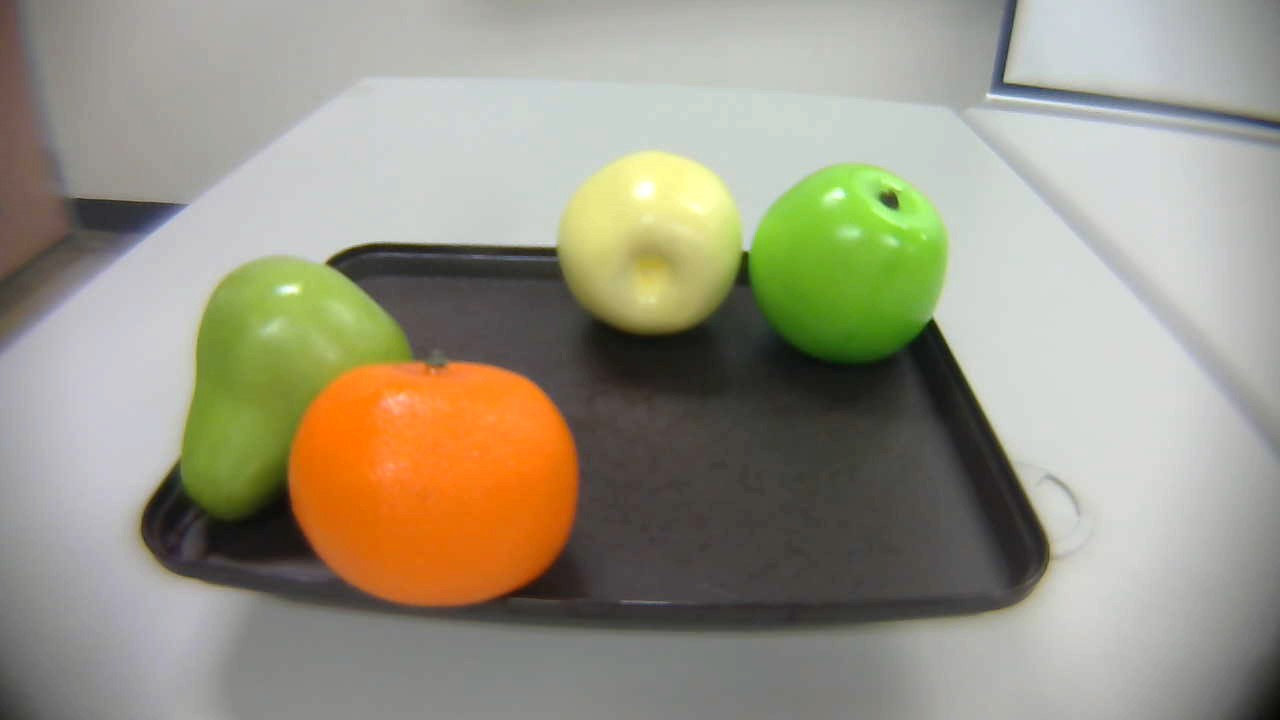green apple: (750, 159, 955, 376)
green pear: (152, 248, 420, 581)
orange: (278, 348, 588, 609)
western pear: (542, 136, 762, 353)
